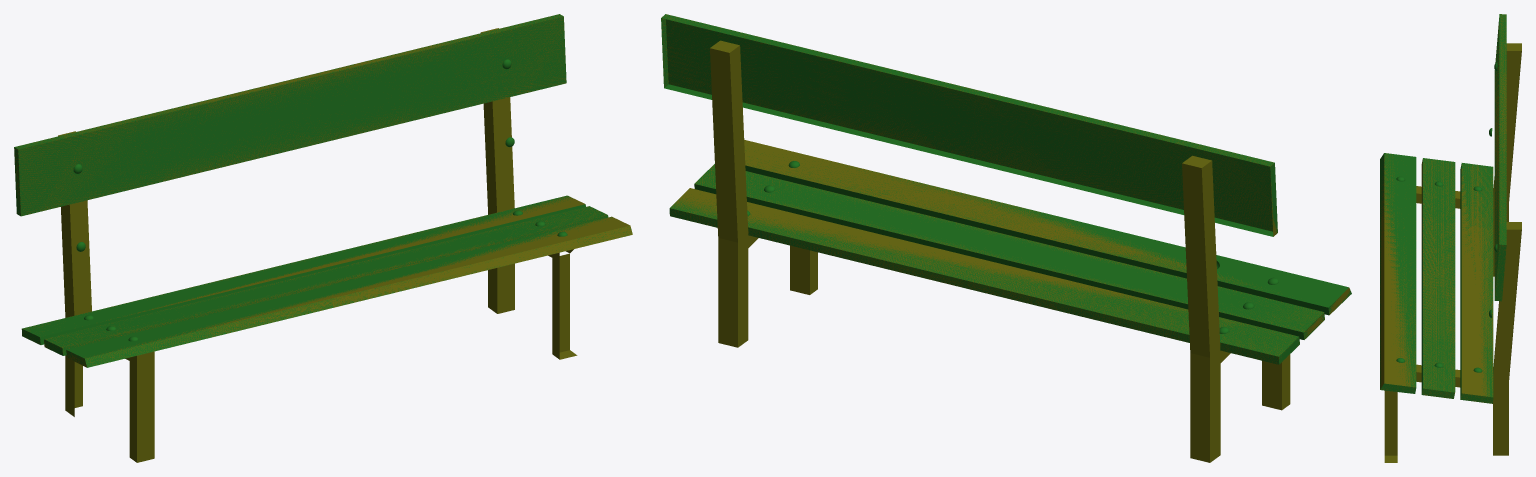
Rendered from Ghe.fbx.
3 renders of one model, left to right at view 1: azimuth 30°, elevation 25°; view 2: azimuth 150°, elevation 25°; view 3: azimuth 270°, elevation 25°, orthographic. The views are drawn at different scales.
Visible parts, largest first — view 1: ghe; view 2: ghe; view 3: ghe.
Part boxes in pixels (x1,y1,x2,y2): ghe: (14,14,632,462); ghe: (661,14,1351,462); ghe: (1380,14,1521,462).
Size of the model in its own units: 725 by 353 by 189.
